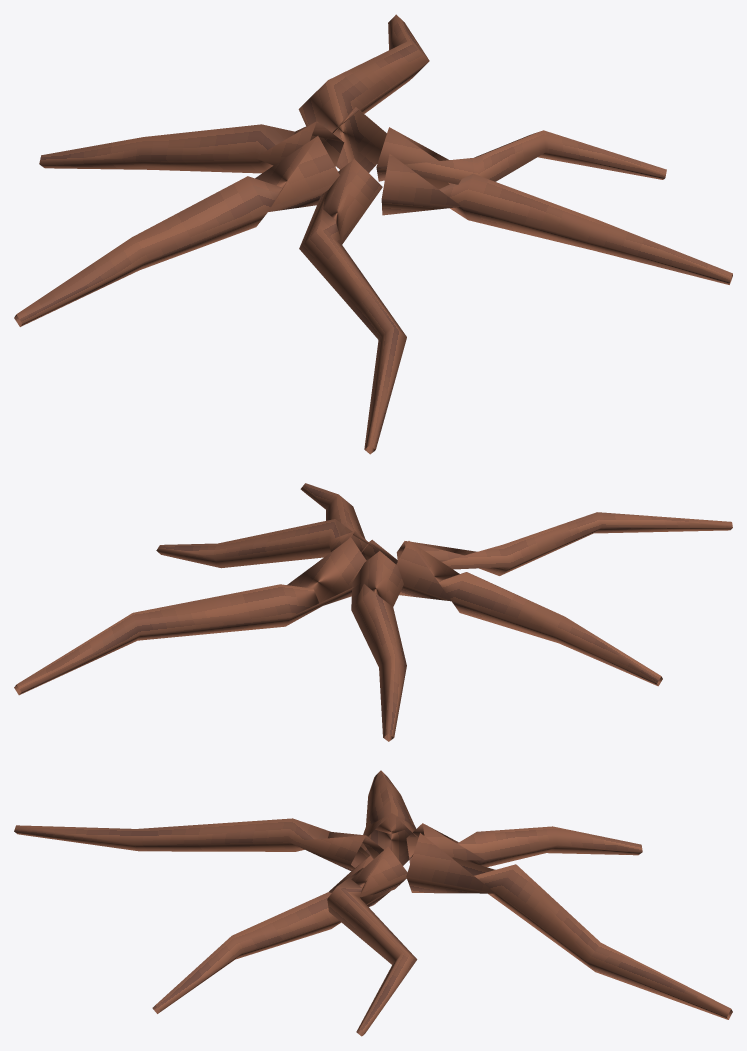
File: roots_spread.glb
The picture shows the model from 3 angles, top to bottom: view 1: azimuth 30°, elevation 25°; view 2: azimuth 150°, elevation 25°; view 3: azimuth 270°, elevation 25°; orthographic projection. The views are drawn at different scales.
Visible parts, largest first — view 1: roots_spread_Bark_Brown; view 2: roots_spread_Bark_Brown; view 3: roots_spread_Bark_Brown.
Boxes of the visible parts, <box> form: roots_spread_Bark_Brown: <box>14,14,732,454</box>; roots_spread_Bark_Brown: <box>14,483,732,741</box>; roots_spread_Bark_Brown: <box>14,770,732,1036</box>.
Size of the model in its own units: 3.22 by 0.5582 by 3.8.
1 material, 1 textured.
